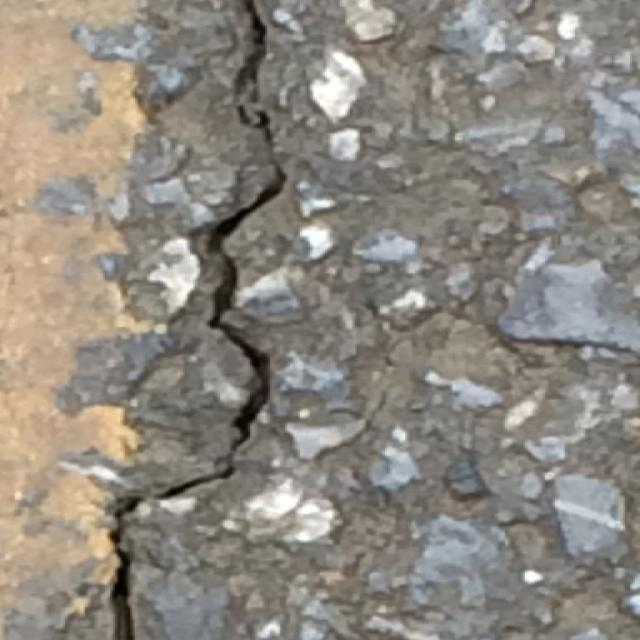Longitudinal: (98, 0, 288, 640)
